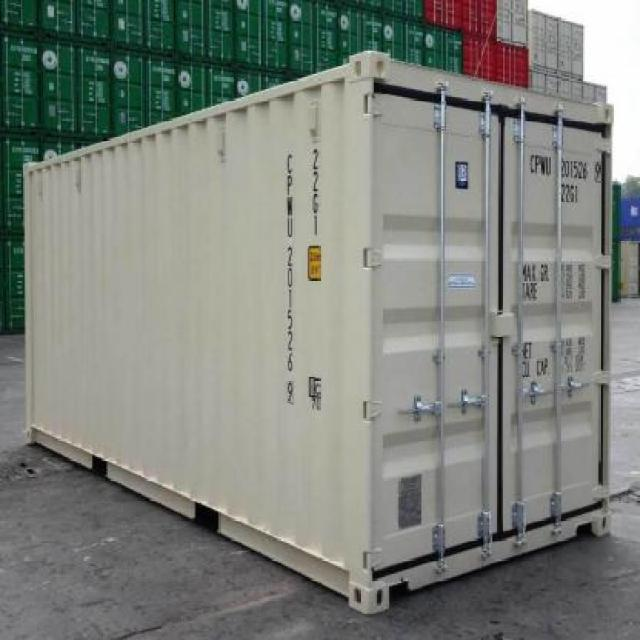ISO: (558, 182, 581, 204)
container_number: (528, 154, 598, 180)
